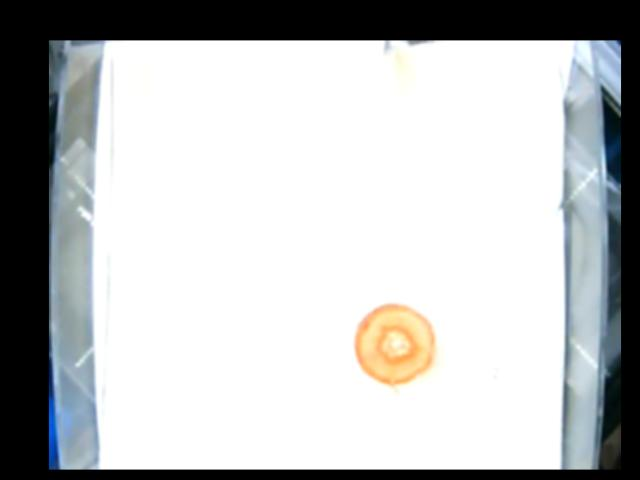Carrot: (353, 303, 437, 383)
